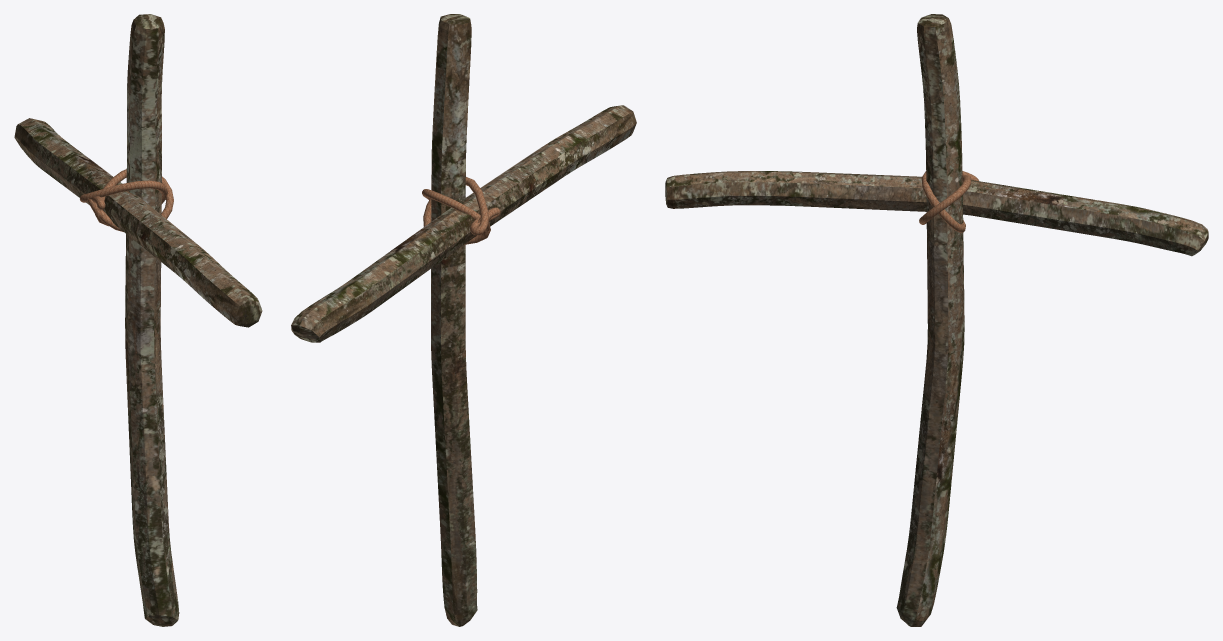
The model's file is tumba.fbx.
The picture shows the model from 3 angles, left to right: view 1: azimuth 30°, elevation 25°; view 2: azimuth 150°, elevation 25°; view 3: azimuth 270°, elevation 25°; orthographic projection.
Visible parts, largest first — view 1: Cylinder, Cylinder.001, BézierCurve; view 2: Cylinder, Cylinder.001, BézierCurve; view 3: Cylinder, Cylinder.001, BézierCurve.
Part boxes in pixels (left/top/right/bottom): Cylinder: left=125, top=14, right=179, bottom=626; Cylinder.001: left=14, top=118, right=262, bottom=327; BézierCurve: left=80, top=169, right=173, bottom=231; Cylinder: left=431, top=14, right=477, bottom=626; Cylinder.001: left=291, top=105, right=636, bottom=342; BézierCurve: left=422, top=177, right=500, bottom=244; Cylinder: left=896, top=14, right=964, bottom=626; Cylinder.001: left=665, top=171, right=1208, bottom=256; BézierCurve: left=919, top=171, right=978, bottom=232.
Size of the model in its own units: 22.39 by 166 by 135.
Materials: 3 (3 with a texture image).
